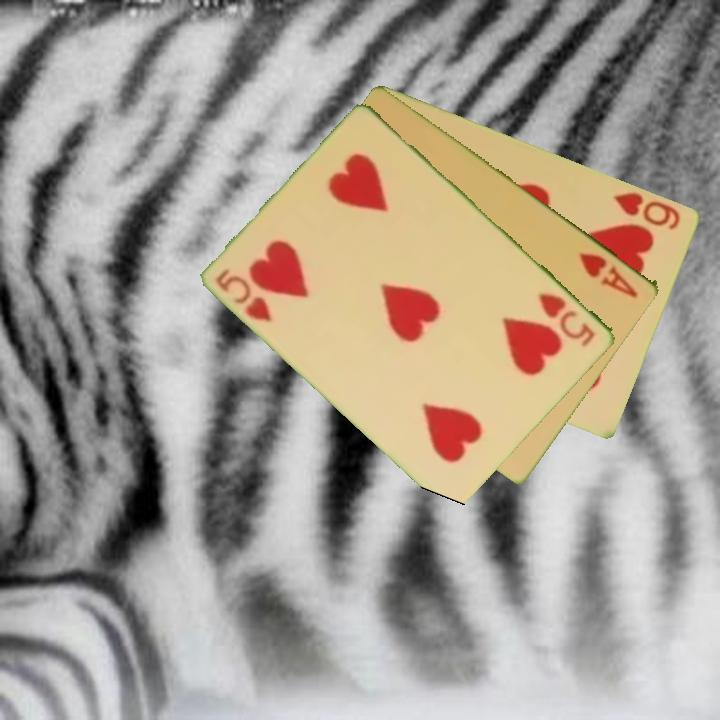5h: (212, 264, 276, 326), (535, 289, 599, 350)
6h: (609, 188, 684, 233)
Ah: (576, 248, 642, 301)
